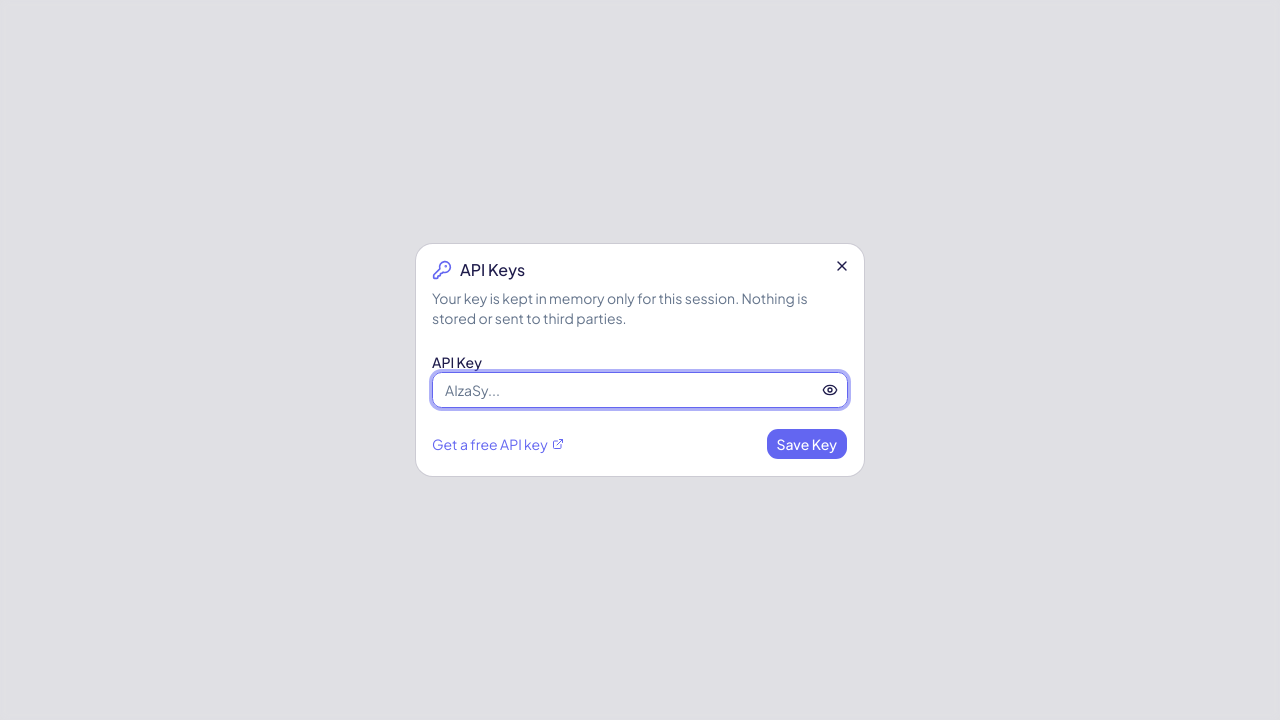
it: ApiKeyDialog › shows error for invalid key format (not starting with "AIza")
In the password field with placeholder "AIzaSy...": (640, 390) x1=432 y1=372 x2=848 y2=408, type "invalidkey123"
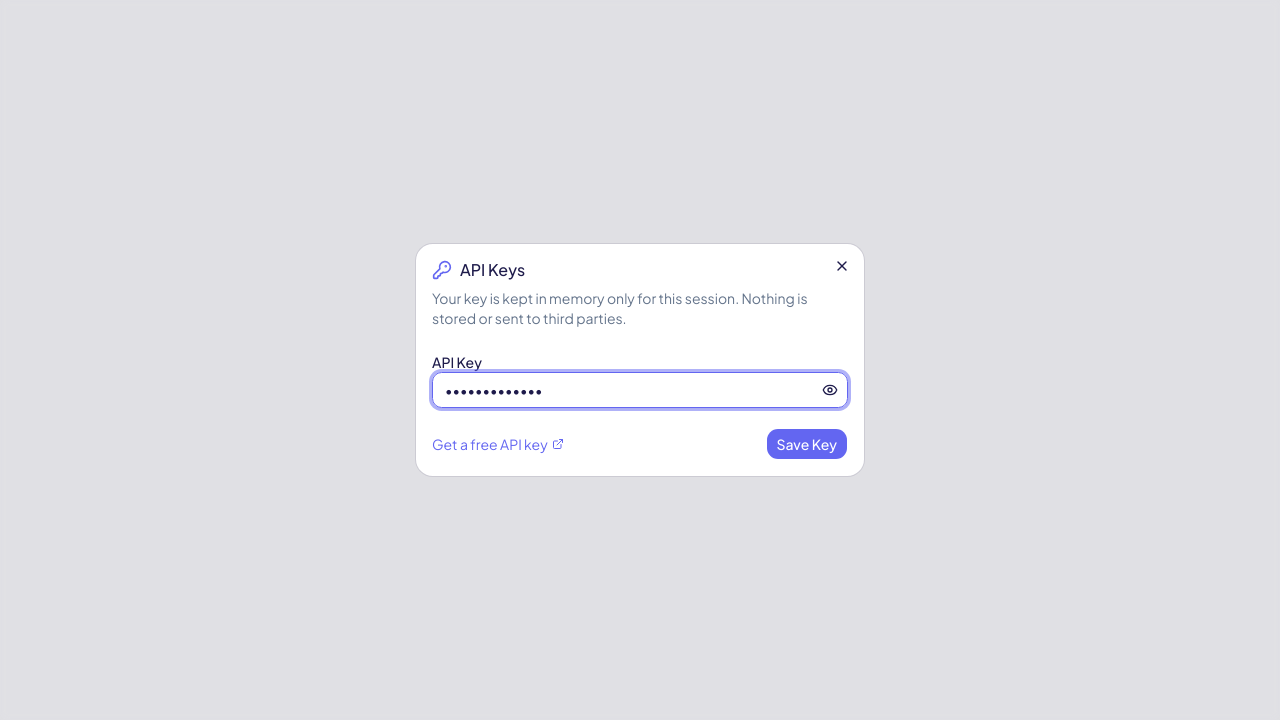
Click the button "Save Key": (807, 444) x1=766 y1=428 x2=848 y2=460
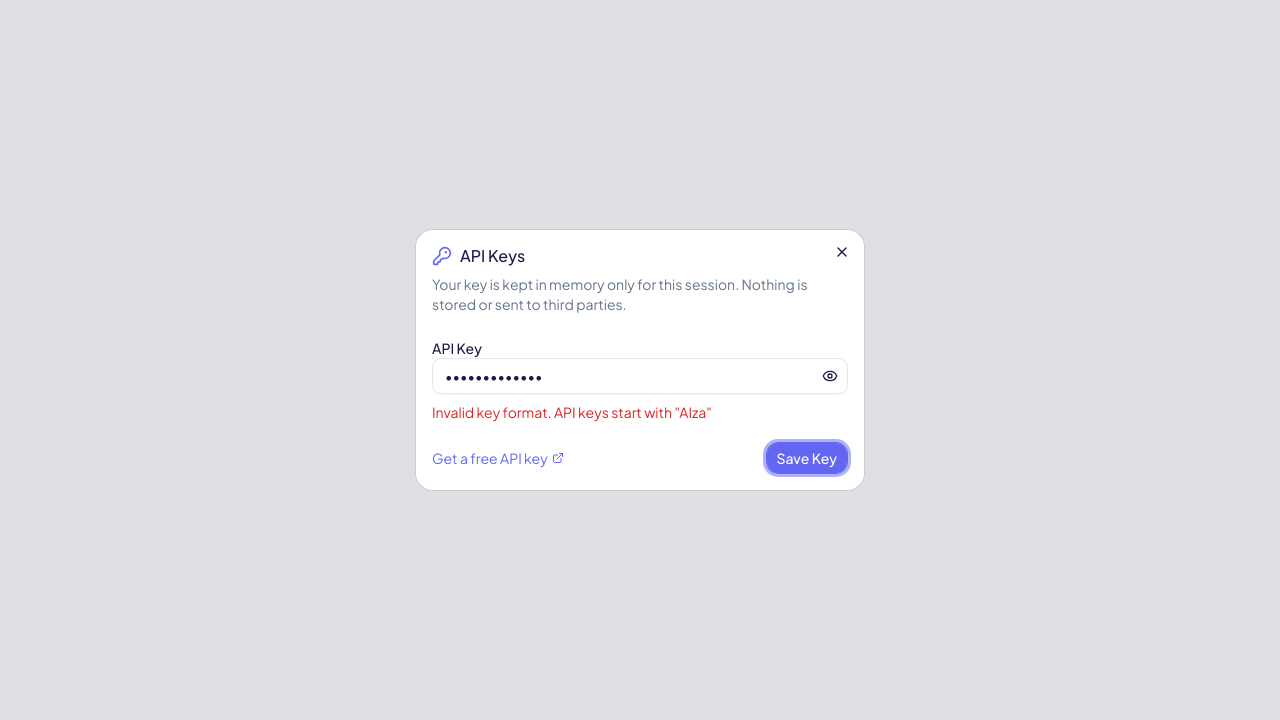
Check: the message shows "Invalid key format", box x1=432 y1=403 x2=712 y2=421
